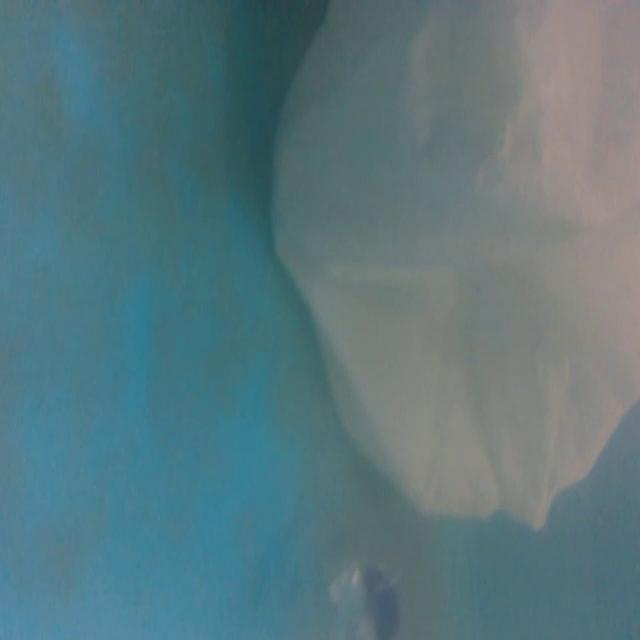plastic bags: (264, 0, 640, 530)
